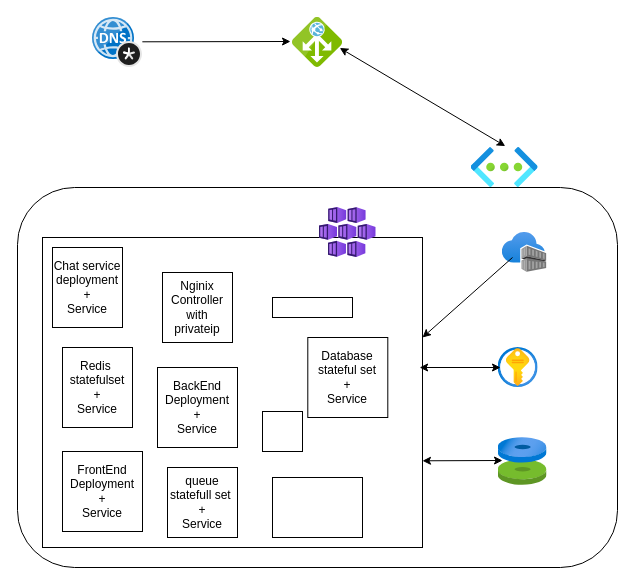
The diagram is 635 pixels wide and 585 high, and some of its shapes have lost their labels. The box of each missing label's shape, as (x1, y1, x2, y2) in pixels:
Cert-manager: (272, 296, 352, 318)
pvc: (262, 410, 302, 452)
queue listner deployment + service: (272, 476, 362, 538)
